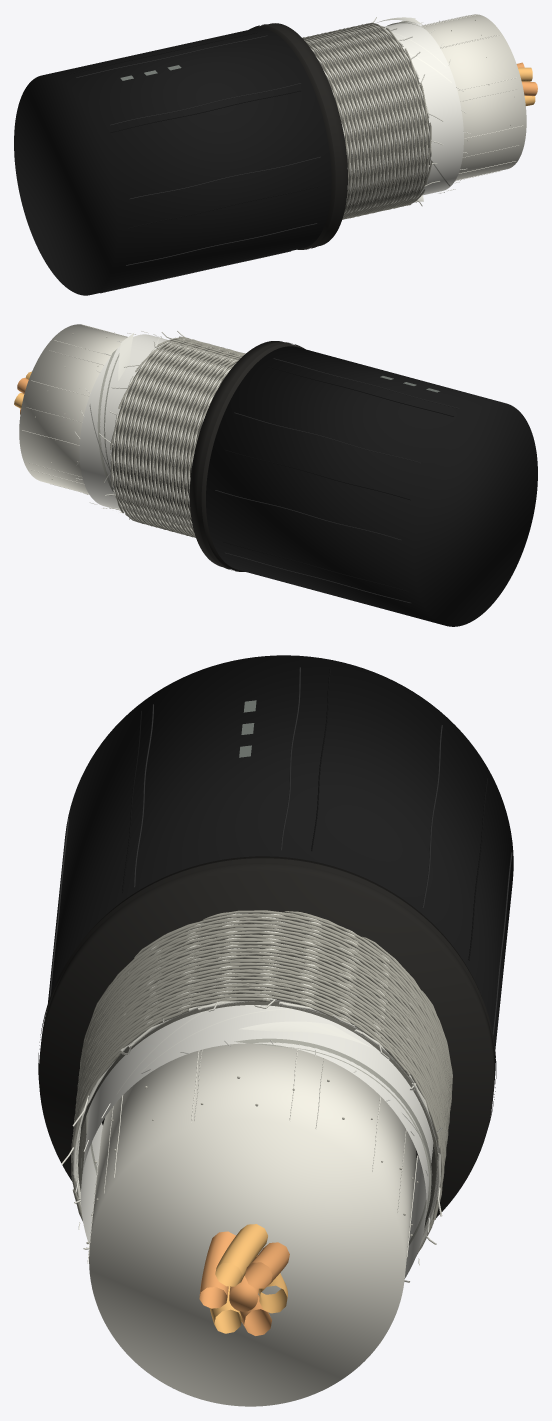
The model's file is rf-lmr400uf-macro.glb.
3 renders of one model, top to bottom at view 1: azimuth 30°, elevation 25°; view 2: azimuth 150°, elevation 25°; view 3: azimuth 270°, elevation 25°, orthographic. The views are drawn at different scales.
Visible parts, largest first — view 1: macro jacket body, macro dielectric exposed core, shadow seen through braid windows, continuous foil sleeve under braid, thick jacket cut wall, rounded jacket cut lip, macro braid shadow carrier 05 strand 1, macro braid shadow carrier 06 strand 1, macro braid shadow carrier 04 strand 1, macro braid shadow carrier 03 strand 1, macro braid shadow carrier 07 strand 1, macro braid shadow carrier 02 strand 1 (+14 smaller); view 2: macro jacket body, macro dielectric exposed core, shadow seen through braid windows, continuous foil sleeve under braid, thick jacket cut wall, rounded jacket cut lip, macro braid shadow carrier 14 strand 1, macro braid shadow carrier 01 strand 1, macro braid shadow carrier 13 strand 1, macro braid shadow carrier 02 strand 1, macro braid shadow carrier 12 strand 1, macro braid shadow carrier 11 strand 1 (+13 smaller); view 3: macro dielectric exposed core, macro jacket body, thick jacket cut wall, continuous foil sleeve under braid, rounded jacket cut lip, macro braid shadow carrier 02 strand 3, macro braid shadow carrier 01 strand 3, macro braid shadow carrier 03 strand 3, shadow seen through braid windows, macro braid shadow carrier 13 strand 3, macro braid shadow carrier 11 strand 3, macro braid shadow carrier 12 strand 3 (+13 smaller).
Part boxes in pixels (x1,y1,x2,y2): macro jacket body: [14, 28, 331, 295]; macro dielectric exposed core: [421, 14, 526, 180]; shadow seen through braid windows: [310, 29, 430, 210]; continuous foil sleeve under braid: [384, 22, 463, 195]; thick jacket cut wall: [249, 23, 347, 249]; rounded jacket cut lip: [254, 24, 340, 249]; macro braid shadow carrier 05 strand 1: [316, 22, 416, 215]; macro braid shadow carrier 06 strand 1: [321, 27, 419, 218]; macro braid shadow carrier 04 strand 1: [315, 24, 412, 211]; macro braid shadow carrier 03 strand 1: [309, 24, 408, 212]; macro braid shadow carrier 07 strand 1: [325, 32, 423, 219]; macro braid shadow carrier 02 strand 1: [306, 25, 405, 211]; macro jacket body: [206, 346, 537, 626]; macro dielectric exposed core: [19, 324, 126, 494]; shadow seen through braid windows: [111, 344, 235, 527]; continuous foil sleeve under braid: [79, 334, 167, 510]; thick jacket cut wall: [189, 341, 305, 571]; rounded jacket cut lip: [196, 342, 300, 571]; macro braid shadow carrier 14 strand 1: [118, 343, 239, 535]; macro braid shadow carrier 01 strand 1: [115, 342, 242, 534]; macro braid shadow carrier 13 strand 1: [121, 344, 235, 534]; macro braid shadow carrier 02 strand 1: [111, 342, 243, 532]; macro braid shadow carrier 12 strand 1: [125, 345, 228, 537]; macro braid shadow carrier 11 strand 1: [129, 346, 220, 537]; macro dielectric exposed core: [89, 1043, 416, 1406]; macro jacket body: [48, 655, 513, 1048]; thick jacket cut wall: [39, 856, 495, 1217]; continuous foil sleeve under braid: [81, 1005, 433, 1278]; rounded jacket cut lip: [38, 858, 496, 1127]; macro braid shadow carrier 02 strand 3: [77, 934, 447, 1213]; macro braid shadow carrier 01 strand 3: [80, 931, 448, 1256]; macro braid shadow carrier 03 strand 3: [74, 939, 448, 1138]; shadow seen through braid windows: [78, 921, 437, 1227]; macro braid shadow carrier 13 strand 3: [76, 925, 449, 1157]; macro braid shadow carrier 11 strand 3: [76, 917, 450, 1125]; macro braid shadow carrier 12 strand 3: [80, 920, 448, 1164].
Bounding box in the file's own units: 6.51 × 2.83 × 2.94.
